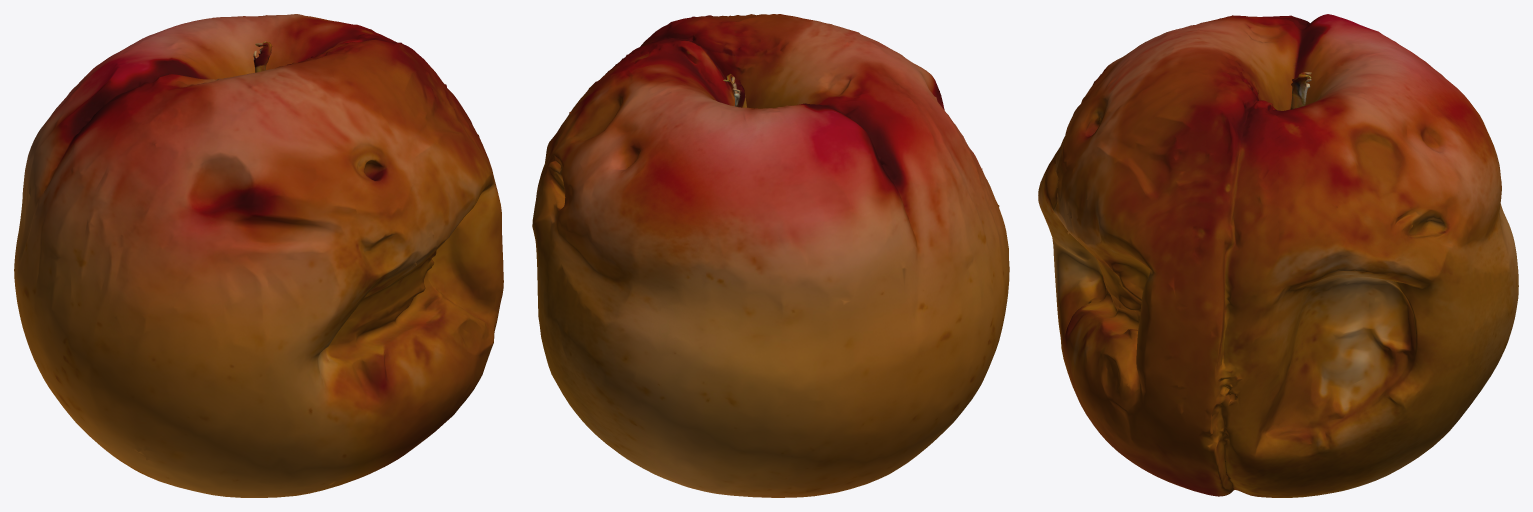
Rendered from jeong_ra_young.glb.
The picture shows the model from 3 angles, left to right: view 1: azimuth 30°, elevation 25°; view 2: azimuth 150°, elevation 25°; view 3: azimuth 270°, elevation 25°; orthographic projection.
Parts seen in each view (by area): view 1: tripo_node_7d2573df; view 2: tripo_node_7d2573df; view 3: tripo_node_7d2573df.
Boxes of the visible parts, box(x1,y1,x2,y2) form: tripo_node_7d2573df: box(14, 14, 503, 497); tripo_node_7d2573df: box(532, 14, 1009, 497); tripo_node_7d2573df: box(1038, 14, 1518, 497).
Bounding box in the file's own units: 0.9977 × 0.9336 × 1.
Materials: 1 (1 with a texture image).
